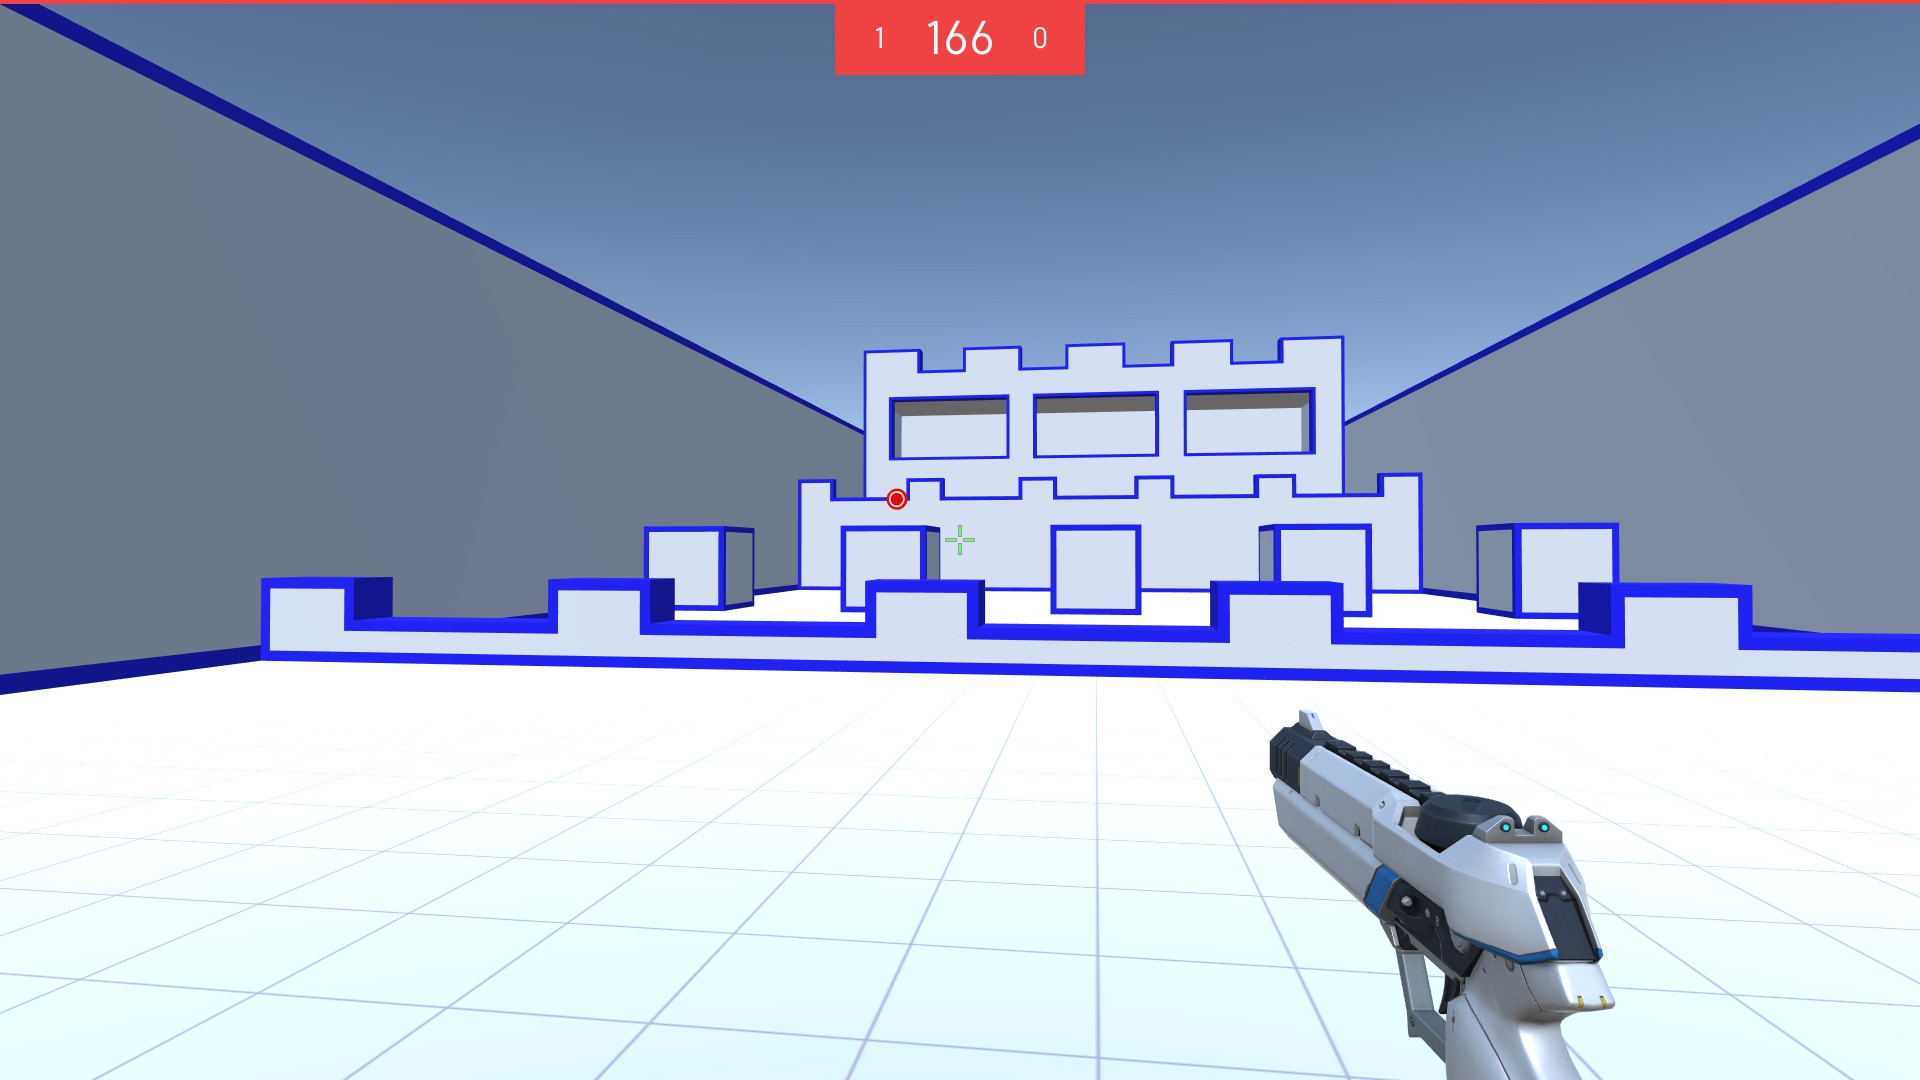target: (886, 487, 909, 512)
